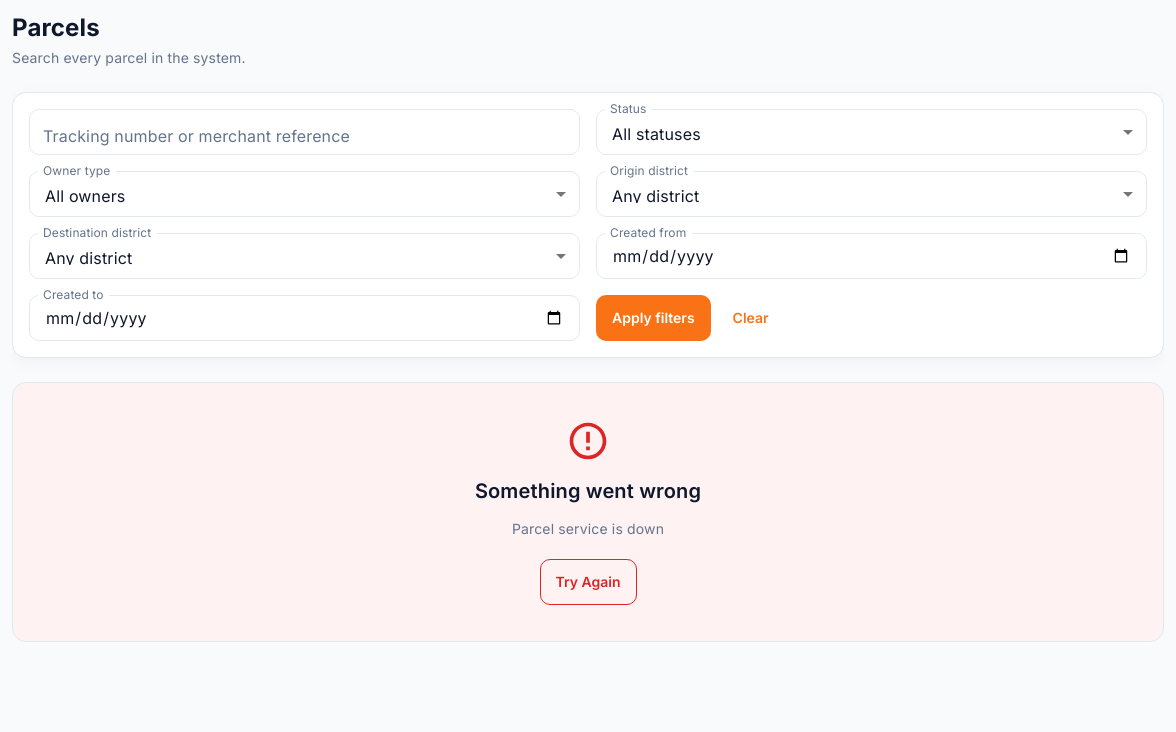
it: TST-040 Member #5 admin parcels page (FR-PAR-011) › shows the server error with a retry button
Expected: the text "Parcel service is down" is shown, left=512, top=519, right=664, bottom=539
Click the button "Try Again": x=588, y=582 left=540, top=559, right=636, bottom=605
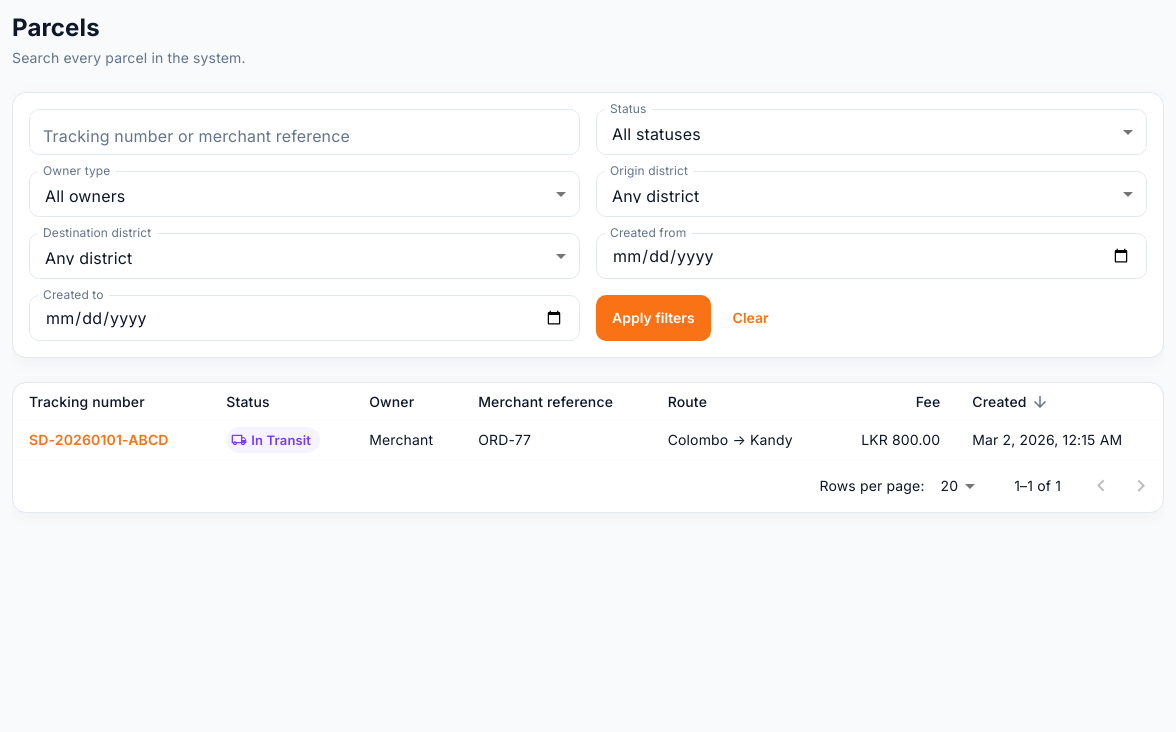
Expected: the link "SD-20260101-ABCD" is shown, left=29, top=431, right=169, bottom=448
